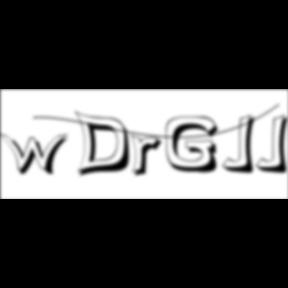D: (74, 110, 138, 180)
G: (166, 116, 226, 176)
J: (222, 114, 262, 176)
r: (131, 134, 169, 180)
w: (0, 132, 76, 178)
